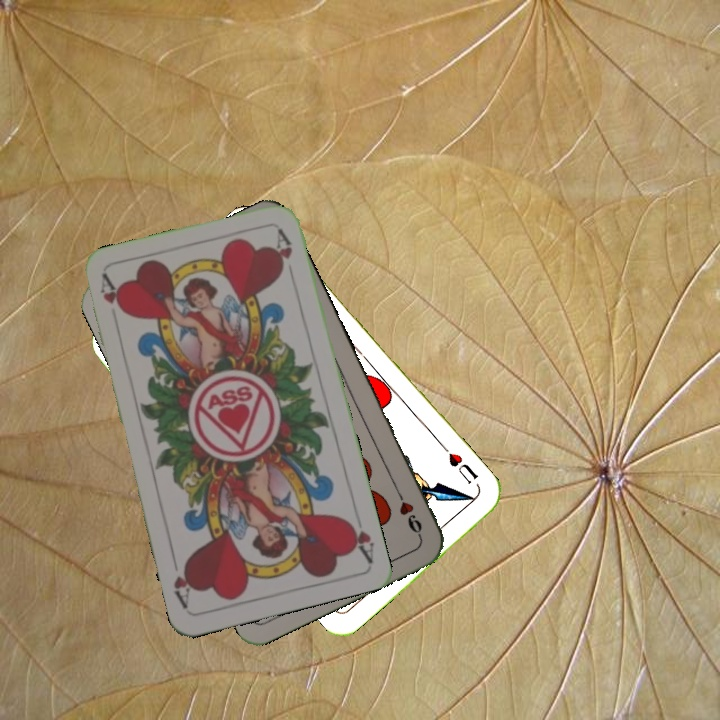H9: (391, 485, 425, 540)
HA: (342, 506, 377, 564), (96, 272, 123, 313)
HU: (444, 448, 481, 487)
